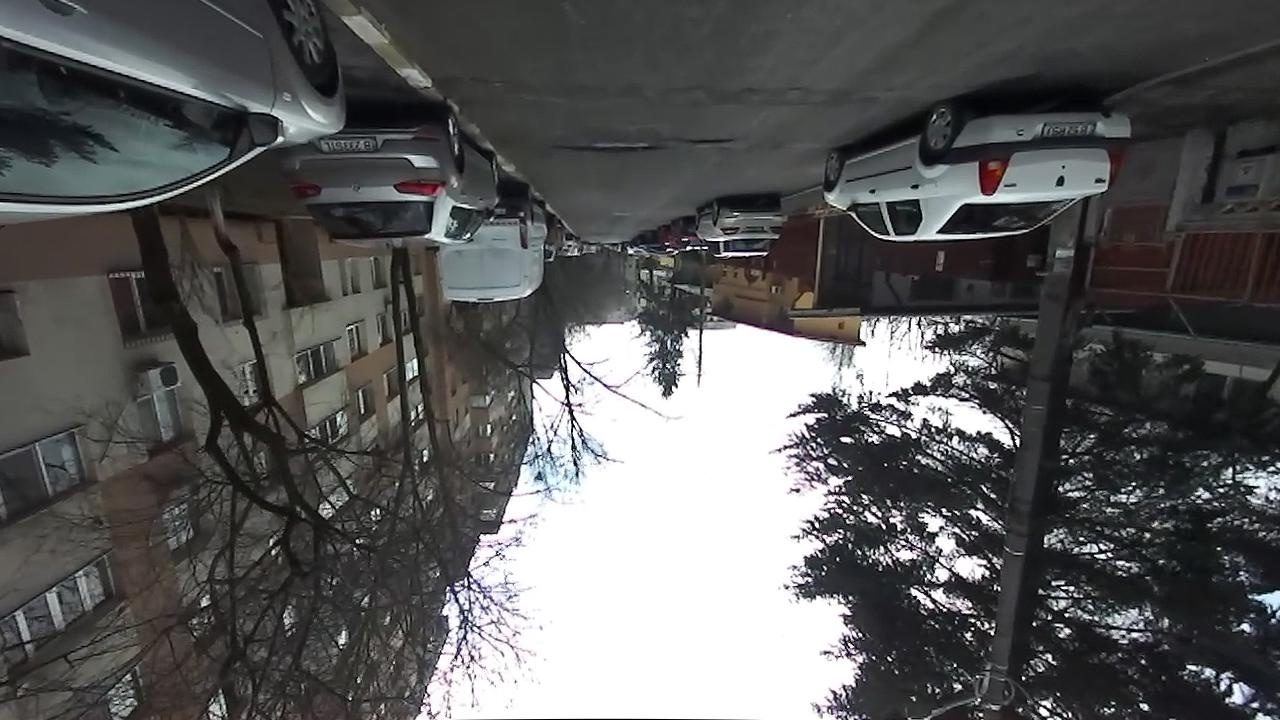pothole: (548, 140, 664, 156), (672, 136, 735, 148)
